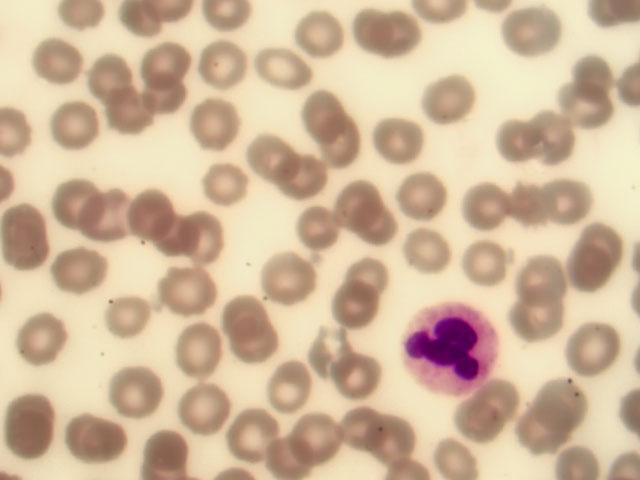RBC: (22, 34, 84, 91), (42, 97, 104, 154), (75, 38, 137, 95), (93, 84, 155, 141), (134, 19, 196, 76), (130, 65, 192, 122), (138, 59, 200, 116), (187, 38, 249, 95), (252, 40, 314, 97), (280, 5, 342, 62), (333, 8, 395, 65), (361, 7, 423, 64), (421, 75, 483, 132), (367, 110, 429, 167), (298, 81, 360, 138), (310, 111, 372, 168), (194, 159, 256, 216), (236, 119, 298, 176), (269, 145, 331, 202), (187, 95, 249, 152), (48, 175, 110, 232), (1, 208, 63, 265), (72, 189, 134, 246), (118, 182, 180, 239), (134, 210, 196, 267), (177, 207, 239, 264), (166, 257, 228, 314), (95, 294, 157, 351), (49, 246, 111, 303), (21, 315, 83, 372), (61, 409, 123, 466), (106, 360, 168, 417), (174, 385, 236, 442), (169, 323, 231, 380), (226, 325, 288, 382), (221, 287, 283, 344), (257, 247, 319, 304), (278, 204, 340, 261), (323, 172, 385, 229), (343, 199, 405, 256), (397, 170, 459, 227), (393, 226, 455, 283), (1, 393, 62, 450), (342, 250, 391, 292), (330, 286, 379, 328), (335, 356, 384, 398), (262, 364, 311, 406), (230, 411, 279, 453), (264, 437, 313, 479), (283, 416, 332, 458), (345, 407, 394, 449), (362, 420, 411, 462), (425, 438, 474, 480), (457, 402, 506, 444), (475, 376, 524, 418), (519, 409, 568, 451), (536, 383, 585, 425), (569, 328, 618, 370), (516, 303, 565, 345), (520, 264, 569, 306), (558, 251, 607, 293), (577, 219, 626, 261), (539, 174, 588, 216), (502, 178, 551, 220), (467, 180, 516, 222), (458, 239, 507, 281), (488, 118, 537, 160), (516, 109, 565, 151), (558, 83, 607, 125), (568, 56, 617, 98), (503, 5, 552, 47)
WBC: (401, 295, 501, 398)
